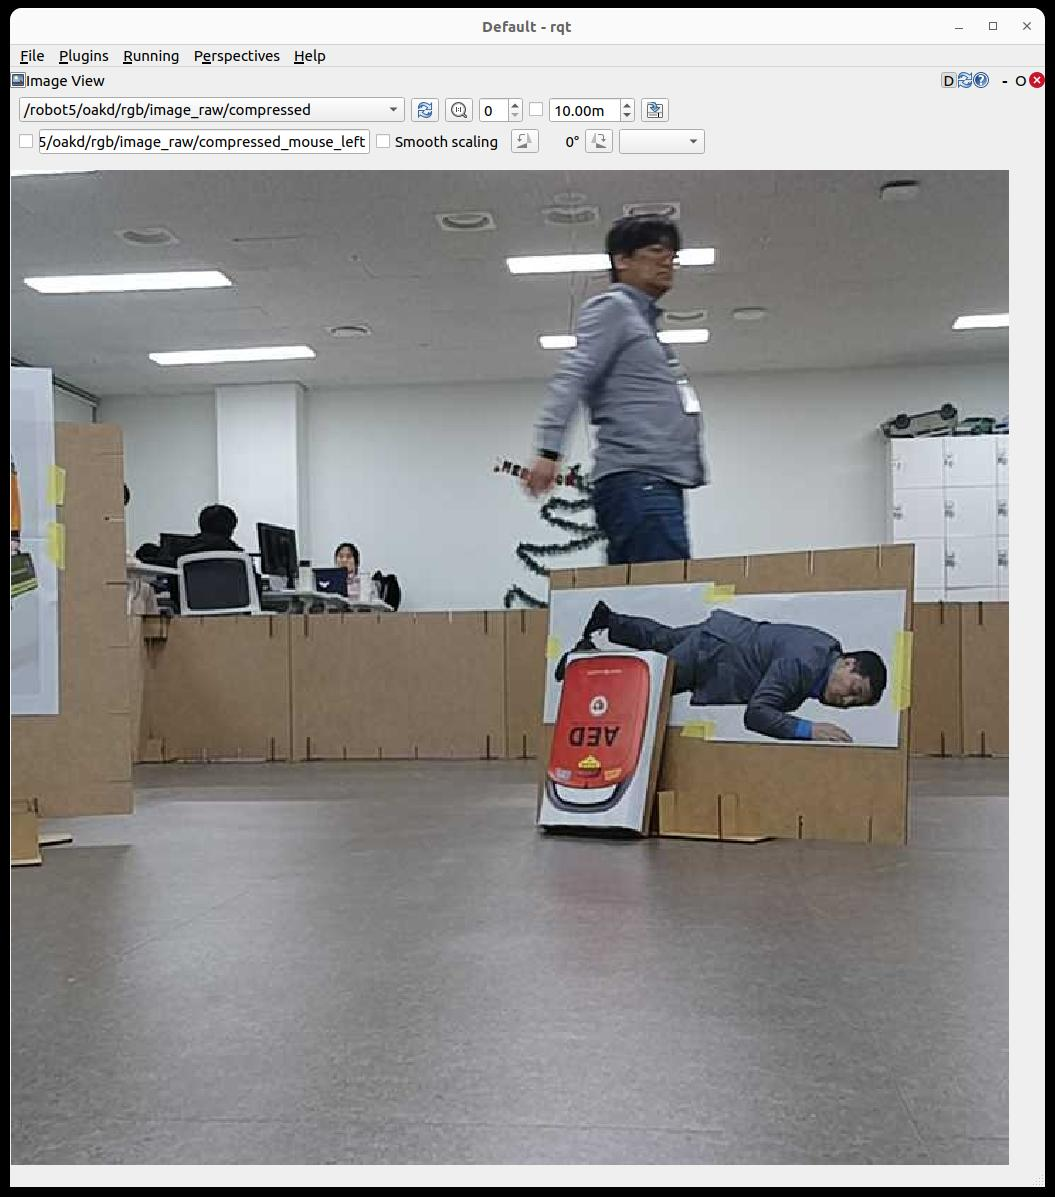AED: (538, 648, 669, 834)
Patient: (577, 601, 885, 741)
